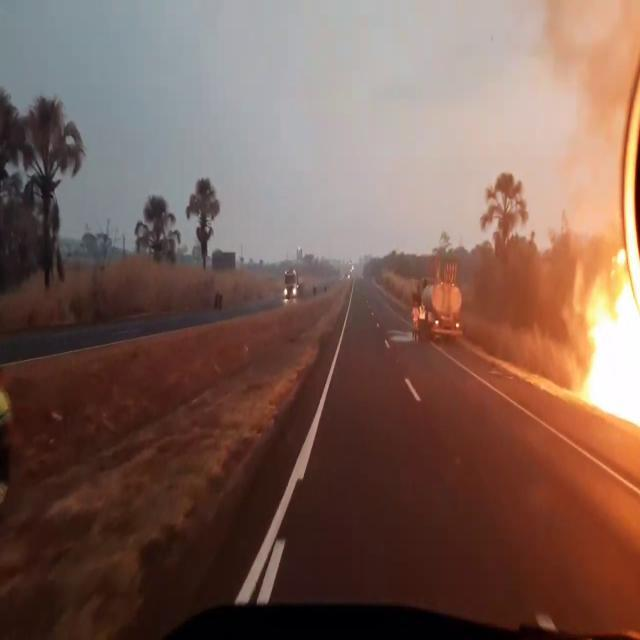Fire: (575, 245, 640, 440)
Smoke: (521, 1, 640, 220)
